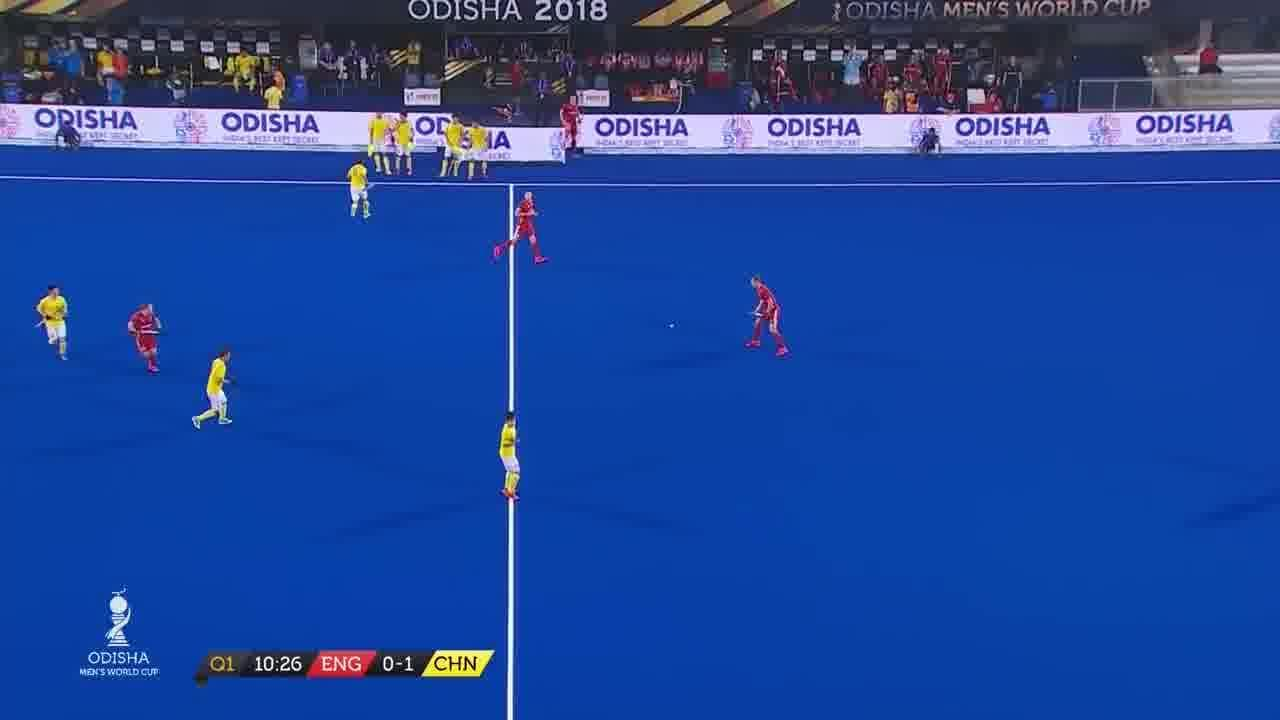ball: (664, 318, 680, 335)
